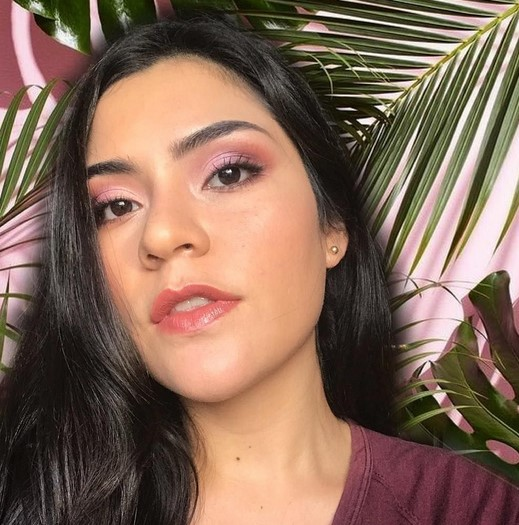face_no_mask: (52, 16, 363, 408)
